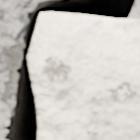brick: (29, 13, 139, 139)
crack: (0, 0, 137, 139)
